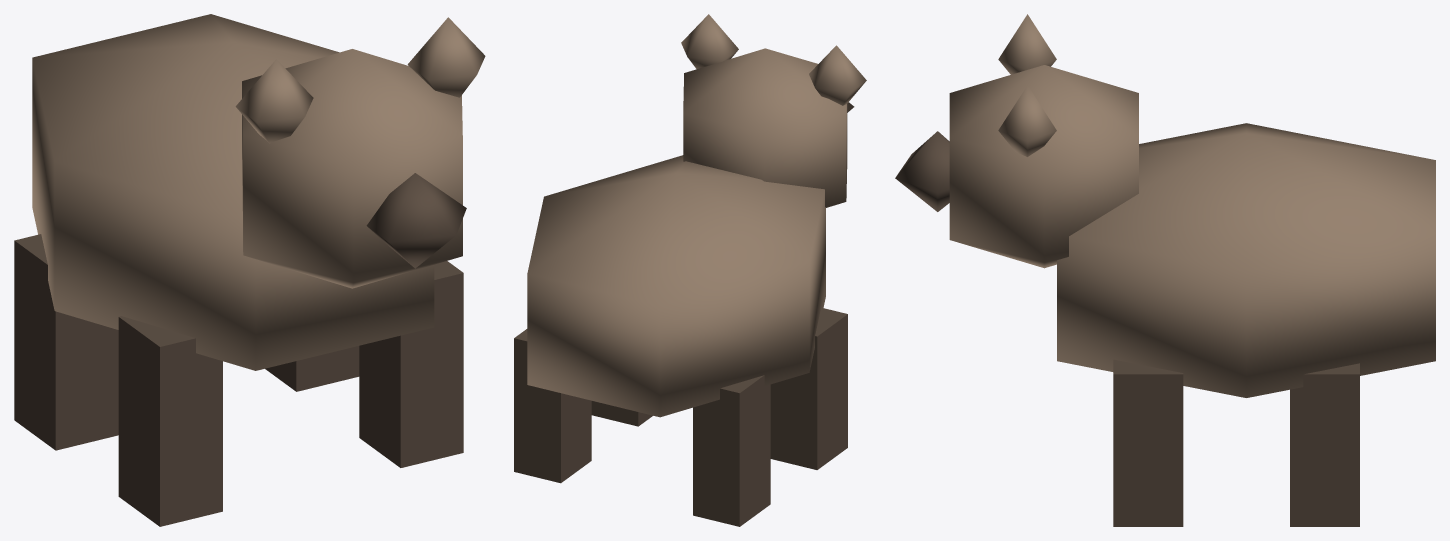
File: verdant_bear.gltf
3 renders of one model, left to right at view 1: azimuth 30°, elevation 25°; view 2: azimuth 150°, elevation 25°; view 3: azimuth 270°, elevation 25°, orthographic. The views are drawn at different scales.
Visible parts, largest first — view 1: verdant_bear_tiny; view 2: verdant_bear_tiny; view 3: verdant_bear_tiny.
Part boxes in pixels (x1,y1,x2,y2): verdant_bear_tiny: (14, 14, 485, 526); verdant_bear_tiny: (514, 14, 866, 526); verdant_bear_tiny: (895, 14, 1435, 526).
Size of the model in its own units: 1.25 by 1.63 by 1.93.
